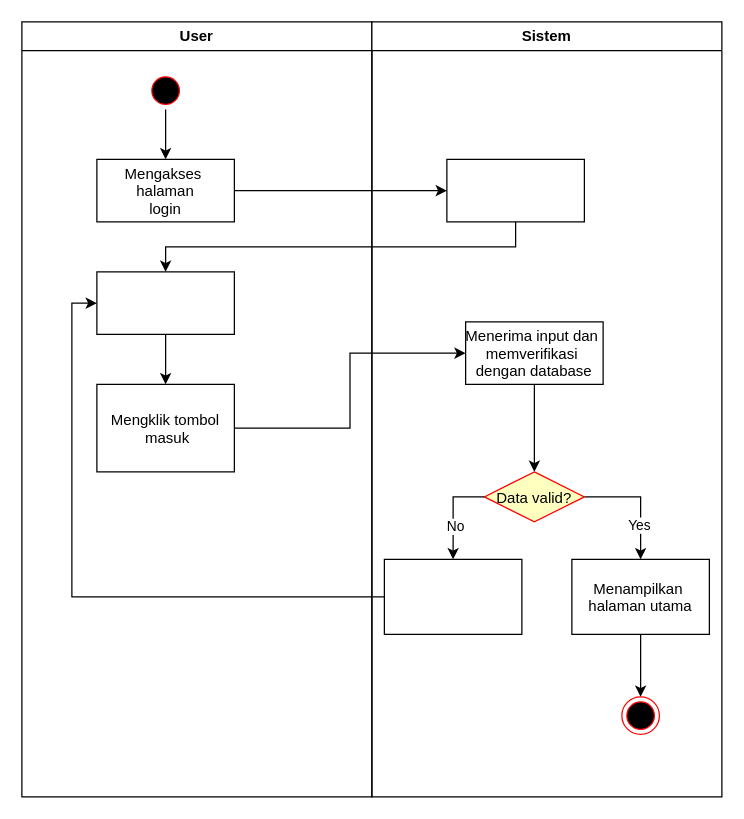
Some shapes in this 744 by 819 pixel diagram are drawn without their labels. Each missing label, with the centre of its shape:
Memasukkan username dan password: [165,302]
Menampilkan halaman login: [515,190]
Menampilkan peringatan: 'Username password salah': [452,596]
